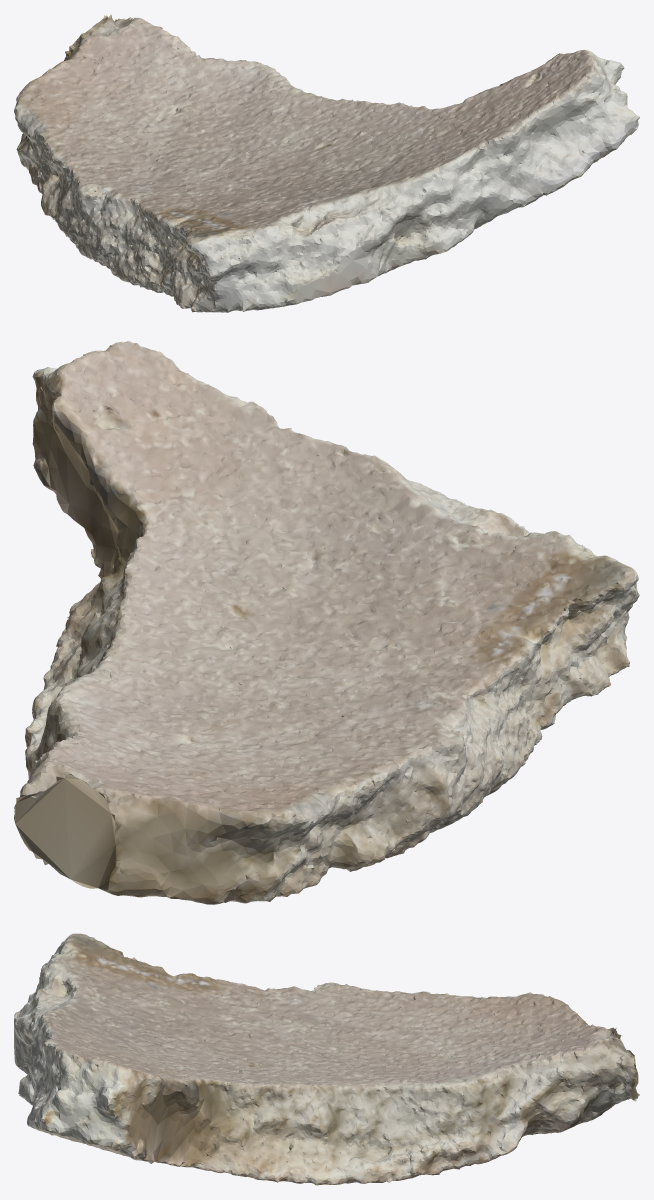
The model's file is glb_LOD01106.glb.
3 views of the same model, one above another, from view 1: azimuth 30°, elevation 25°; view 2: azimuth 150°, elevation 25°; view 3: azimuth 270°, elevation 25° (orthographic). The views are drawn at different scales.
Parts seen in each view (by area): view 1: Mesh_0_Part_0; view 2: Mesh_0_Part_0; view 3: Mesh_0_Part_0.
Part boxes in pixels (x1,y1,x2,y2): Mesh_0_Part_0: (14, 14, 639, 312); Mesh_0_Part_0: (14, 341, 639, 904); Mesh_0_Part_0: (14, 933, 639, 1185).
Size of the model in its own units: 24.39 by 10.06 by 28.27.
